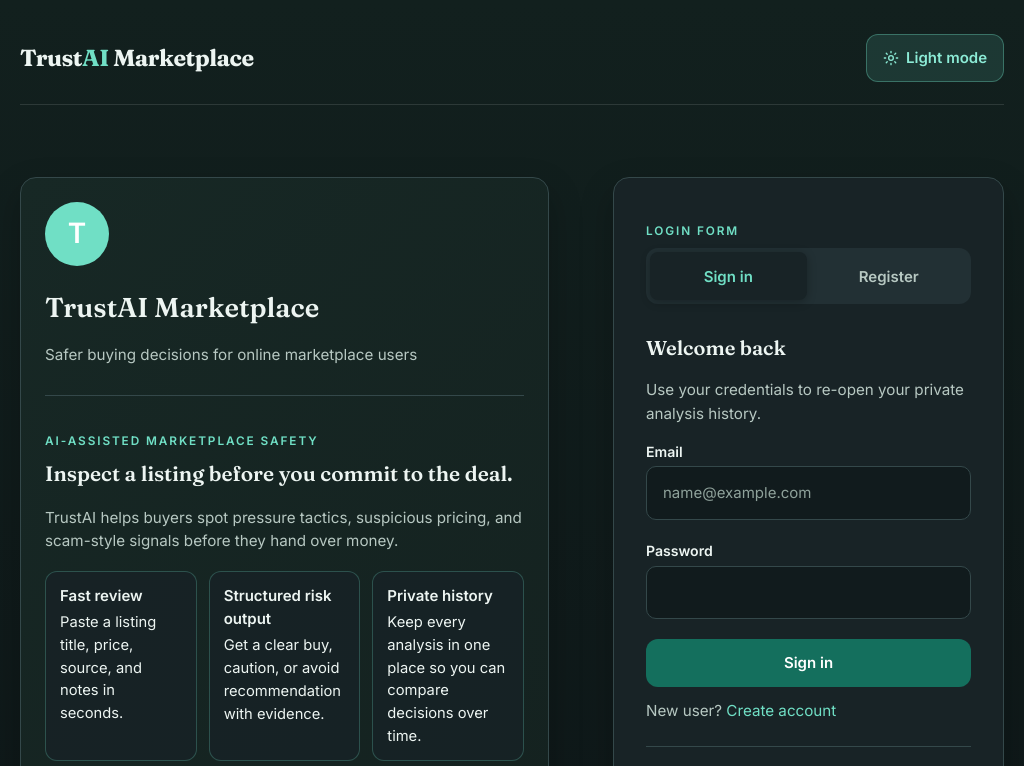
Test case: theme preference › keeps the theme preference through sign-in and sign-out
Type "buyer@example.com" into the field labelled "Email" at (808, 493), box top-left (646, 466), bottom-right (971, 520)
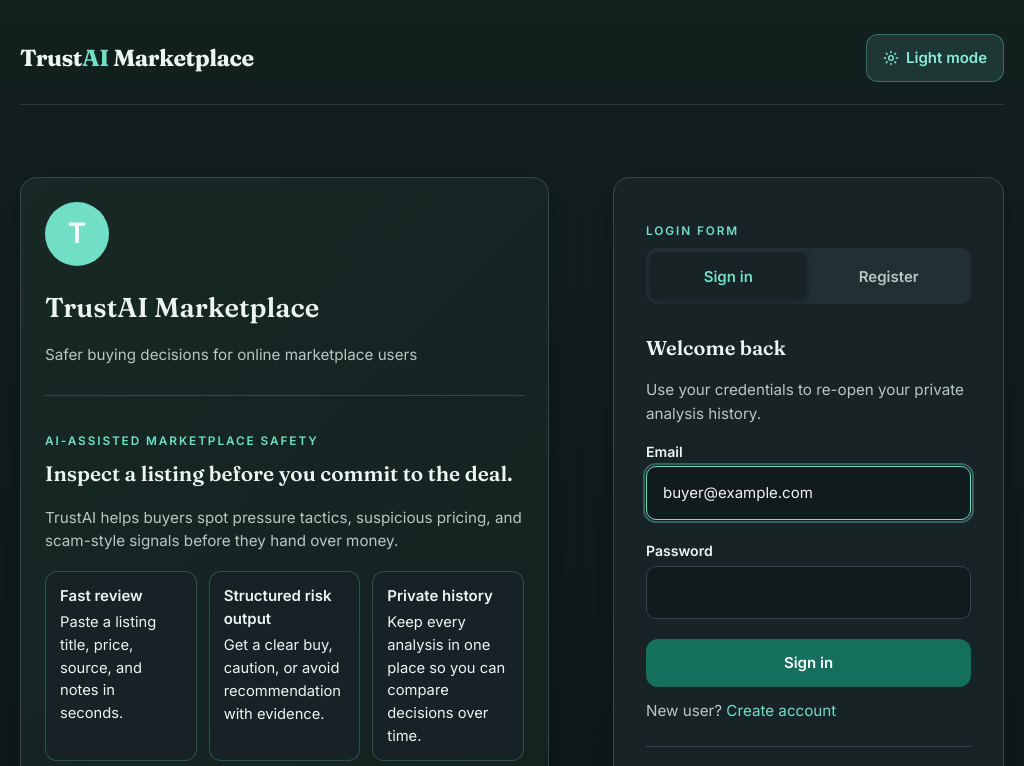
Type "hunter22222" into the password field labelled "Password" at (808, 592), box top-left (646, 566), bottom-right (971, 619)
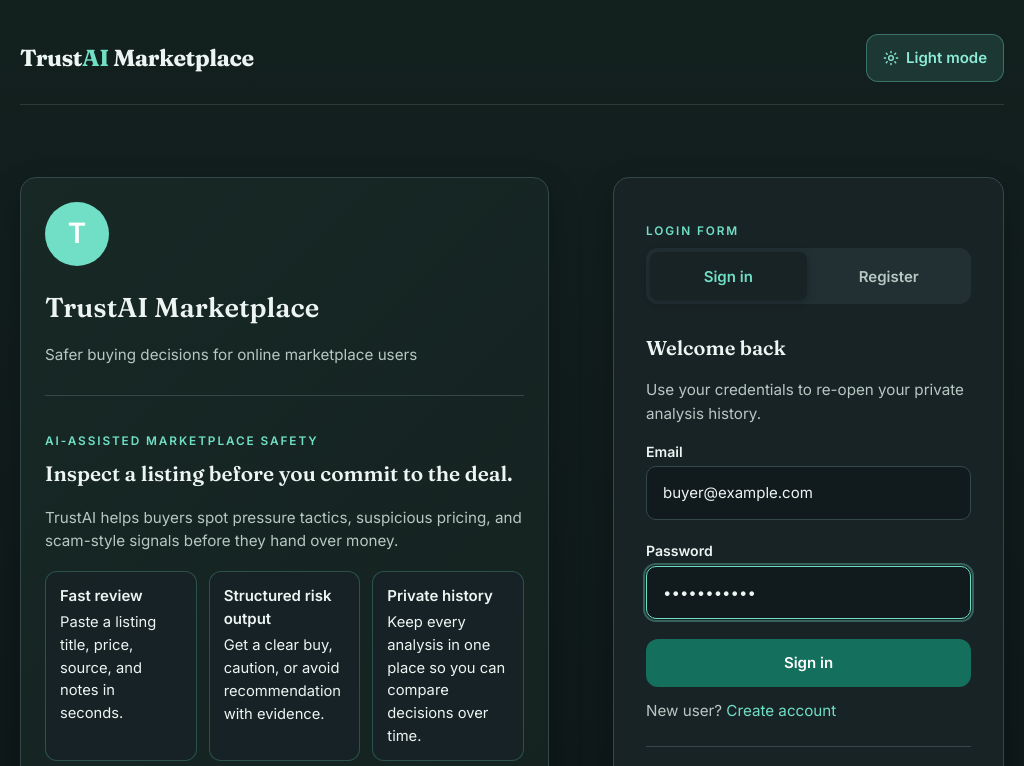
Click the submit button at (808, 663), box top-left (646, 639), bottom-right (971, 687)
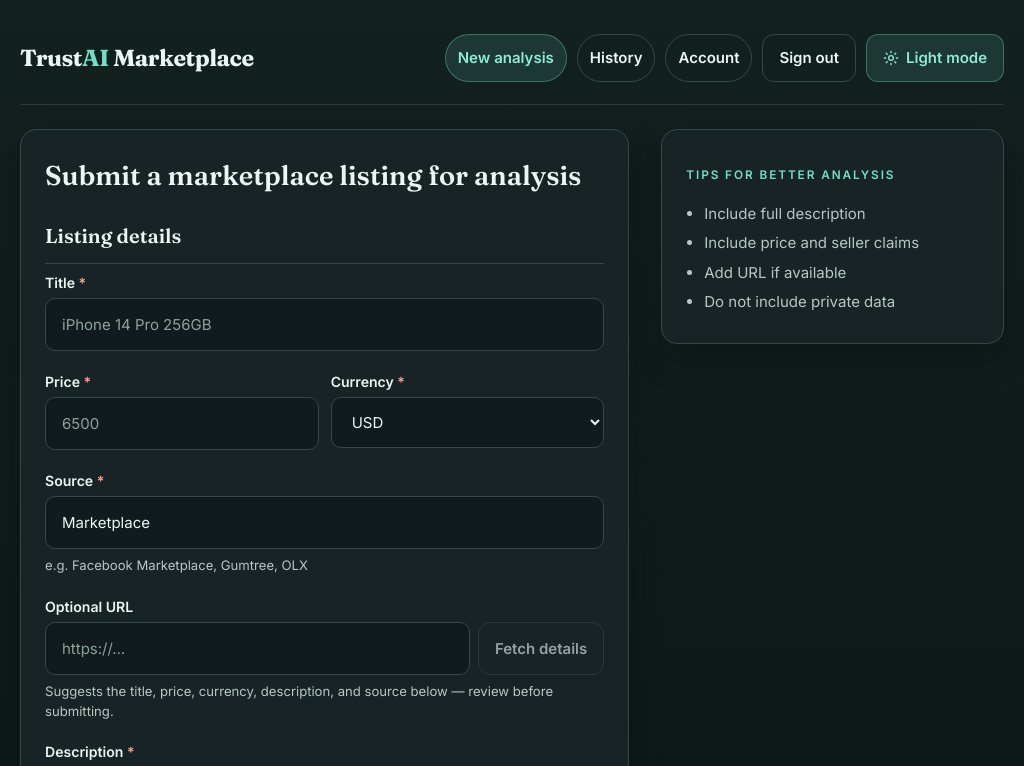
expect the button "Sign out" is shown: met
Click the button "Sign out" at (809, 58), box top-left (762, 34), bottom-right (856, 82)
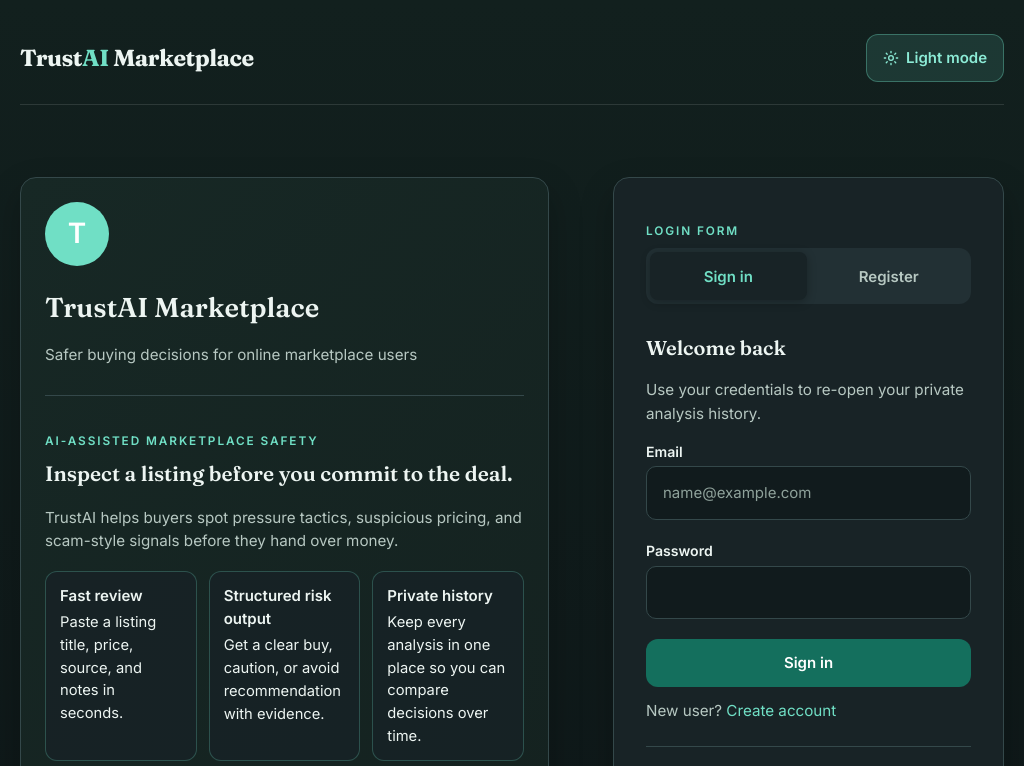
expect the heading "Welcome back" is shown: met, box top-left (646, 335), bottom-right (786, 360)
